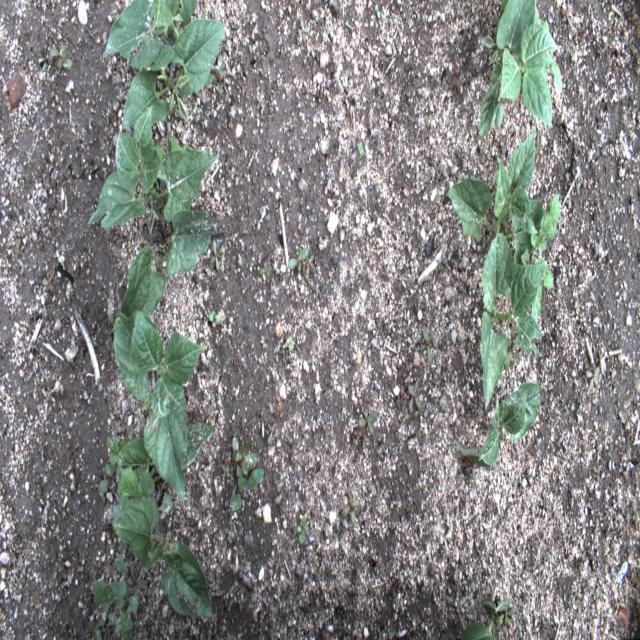crop: (113, 310, 204, 505), (88, 107, 219, 235), (446, 128, 546, 264), (112, 495, 214, 617), (479, 0, 563, 148), (122, 19, 228, 129), (481, 233, 546, 412), (120, 209, 213, 317), (456, 382, 542, 468), (118, 422, 216, 496), (102, 0, 196, 68), (459, 596, 511, 640)
weed: (522, 249, 554, 324), (91, 554, 128, 609), (531, 195, 561, 255), (229, 464, 265, 513), (114, 467, 142, 517), (109, 594, 138, 639), (107, 436, 126, 494), (232, 437, 257, 475), (49, 42, 74, 72), (340, 492, 360, 525), (419, 324, 434, 366), (357, 406, 378, 435), (504, 335, 520, 370), (88, 610, 106, 640), (100, 460, 116, 493), (296, 513, 310, 547), (210, 237, 223, 273), (151, 494, 173, 514), (289, 248, 308, 271), (12, 237, 28, 264), (586, 365, 600, 391), (496, 608, 516, 626), (408, 380, 420, 409), (395, 386, 408, 412), (206, 74, 222, 94), (207, 308, 221, 330), (212, 54, 226, 76), (464, 462, 481, 480), (42, 267, 54, 290), (357, 142, 369, 164), (267, 422, 278, 446), (300, 16, 310, 42), (258, 260, 272, 278), (572, 168, 581, 196), (632, 503, 640, 530), (440, 183, 450, 202), (283, 336, 294, 352), (414, 402, 424, 418), (306, 255, 314, 275), (192, 106, 201, 116), (375, 5, 381, 20), (518, 624, 522, 637), (61, 260, 65, 272)
